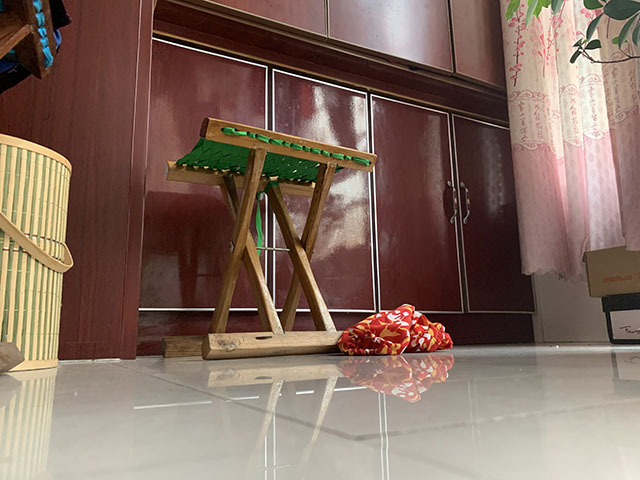cabinet: (109, 5, 520, 361)
curtain: (501, 1, 640, 276)
stool: (158, 115, 378, 359)
